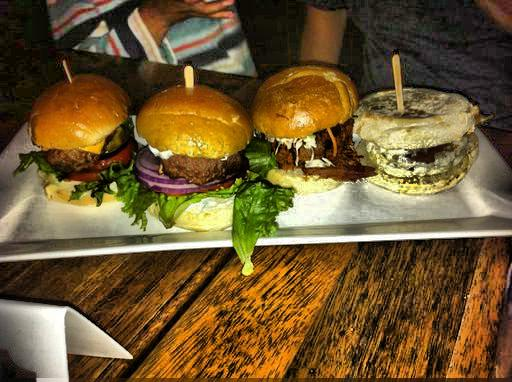burger: (121, 75, 244, 206)
